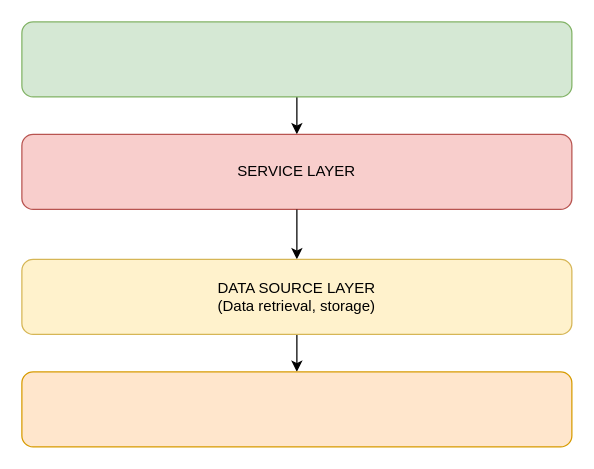
Some shapes in this 594 by 469 pixel diagram are drawn without their labels. The centre of each missing label's shape, as x and y in pixels:
"DATA LAYER (Models, serialization)" belongs at (x=296, y=409).
"WEB LAYER (Controller, REST Mappings)" belongs at (x=296, y=59).
